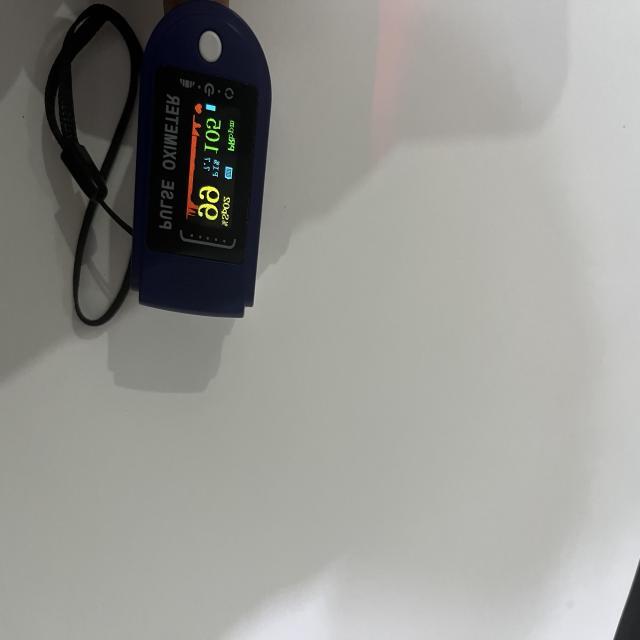spo2: (131, 0, 272, 321)
